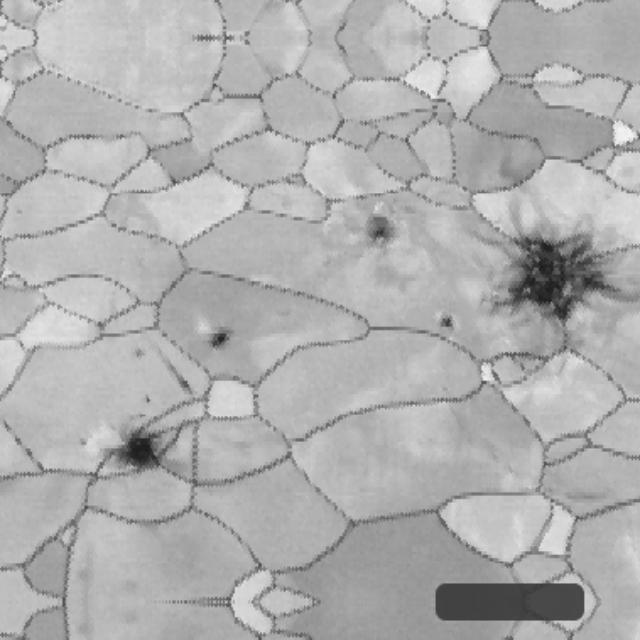good_void: (100, 411, 178, 489), (352, 200, 398, 241), (161, 352, 197, 400), (205, 323, 244, 356), (72, 426, 95, 450), (127, 342, 149, 364), (137, 390, 158, 410), (434, 311, 456, 328), (241, 37, 253, 48), (241, 26, 253, 37)
